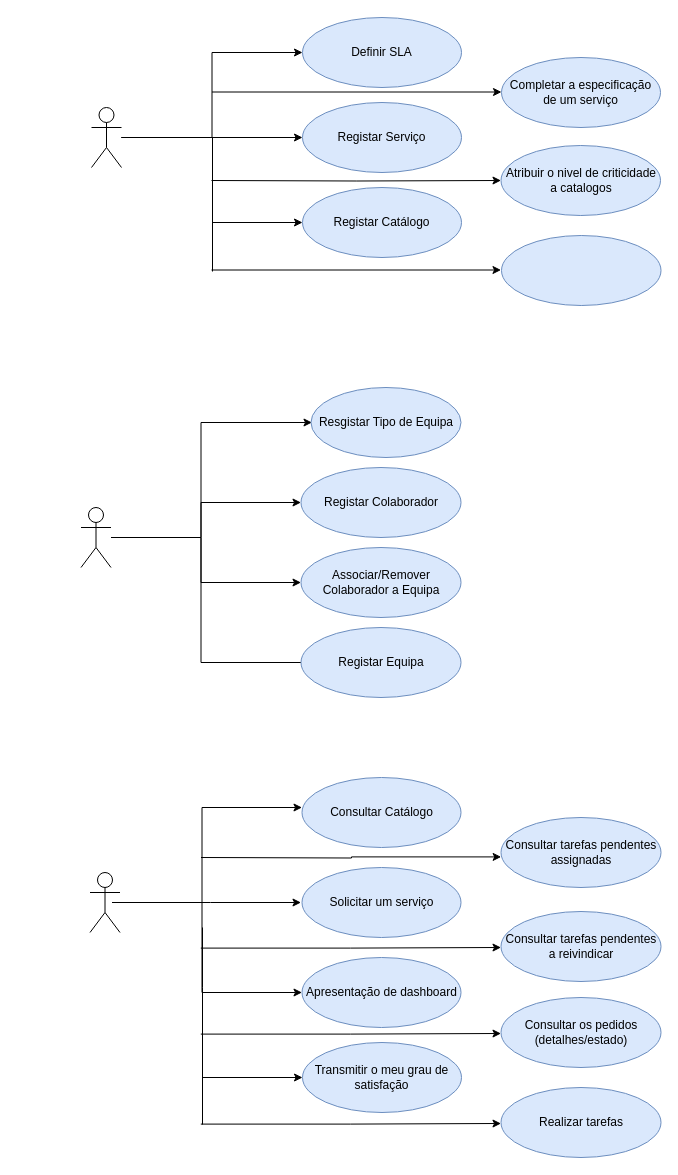
Some shapes in this 678 by 1175 pixel diagram are drawn without their labels. The shapes that lost their labels are listed below. From the top down, each one's box as (x1, y1, x2, y2) in pixels, then its label:
(90, 106, 122, 168): Gestor de Serviços de Helpdesk
(500, 234, 661, 306): Conhecer o estado atual do motor de fluxos
(80, 506, 111, 568): Resp. de Recursos Humanos
(89, 872, 120, 932): Utilizador
